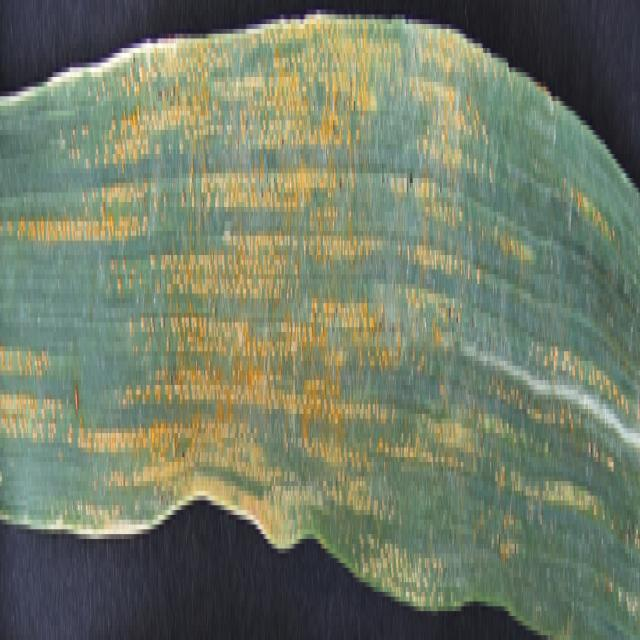leaf rust: (1, 9, 640, 596)
